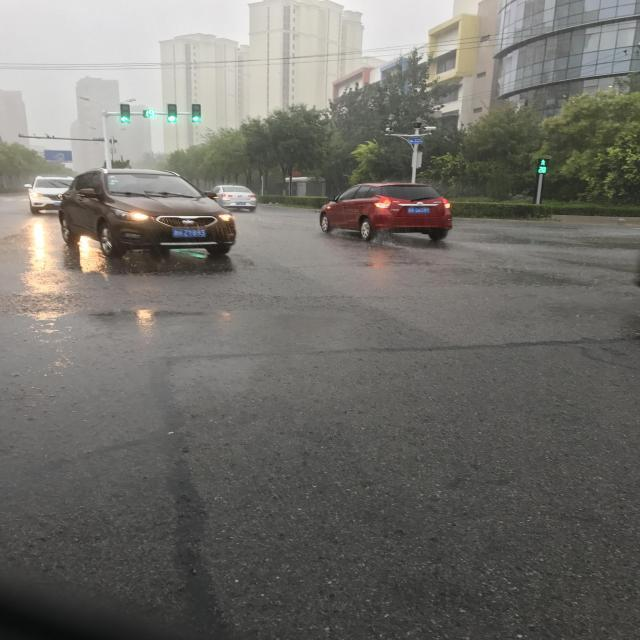car: (168, 402, 258, 582), (183, 186, 240, 321), (176, 560, 213, 616), (185, 385, 212, 428)
